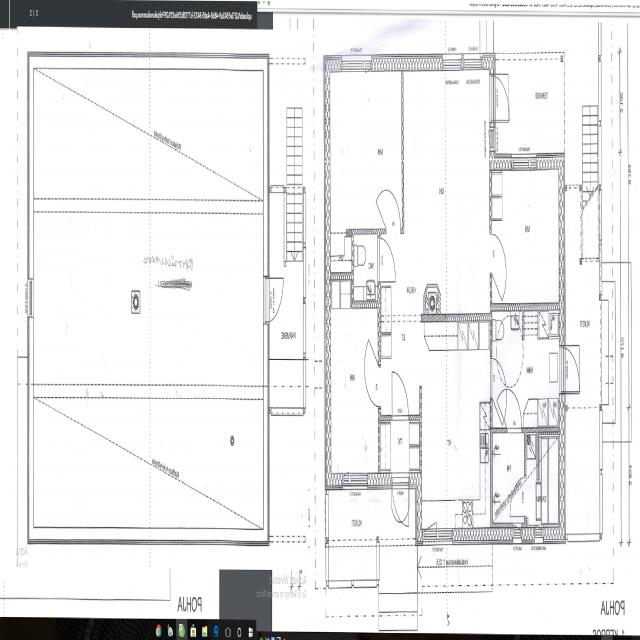door: (392, 473, 409, 533), (559, 348, 582, 392), (264, 278, 286, 322), (490, 77, 512, 120), (378, 239, 397, 282), (392, 372, 408, 422), (363, 367, 381, 407), (507, 388, 522, 434), (490, 234, 507, 273), (490, 359, 507, 398), (386, 190, 401, 234), (510, 478, 527, 516)
